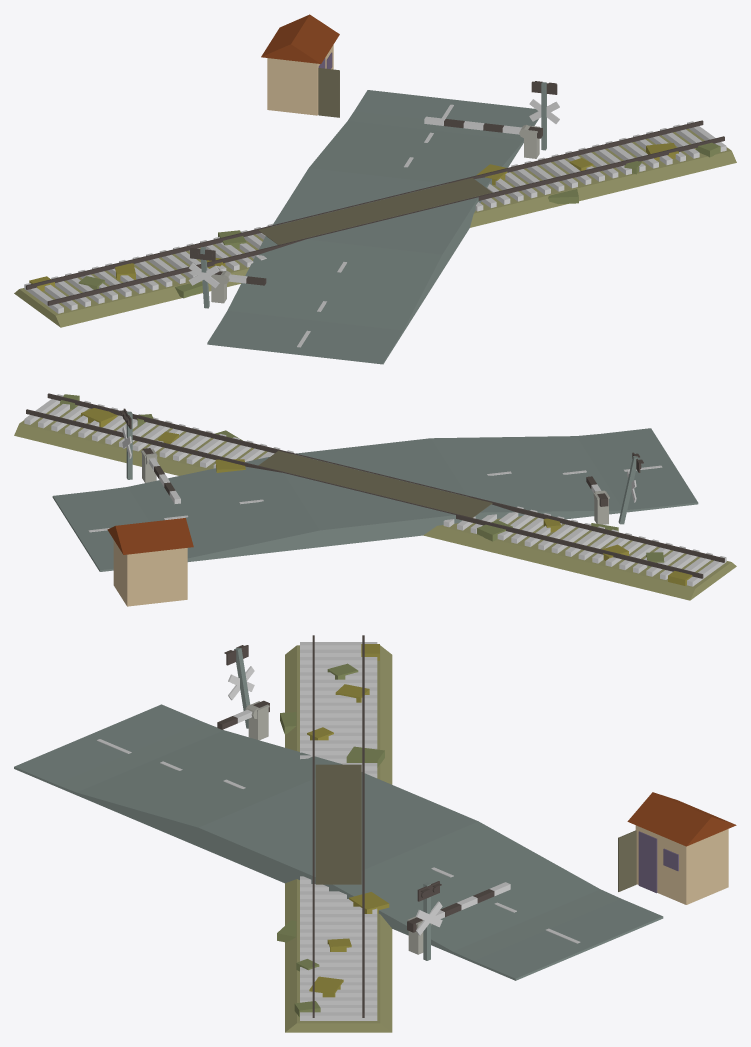
The model's file is SM_PasoNivel_45E_v2_Abandonado_LOD0.fbx.
3 renders of one model, top to bottom at view 1: azimuth 30°, elevation 25°; view 2: azimuth 150°, elevation 25°; view 3: azimuth 270°, elevation 25°, orthographic. The views are drawn at different scales.
Parts seen in each view (by area): view 1: SM_paso_nivel_kit_v32_LOD0, Barrera_1; view 2: SM_paso_nivel_kit_v32_LOD0, Barrera_1; view 3: SM_paso_nivel_kit_v32_LOD0, Barrera_1.
Boxes of the visible parts, box(x1,y1,x2,y2) form: SM_paso_nivel_kit_v32_LOD0: box(14, 14, 736, 364); Barrera_1: box(424, 116, 542, 138); SM_paso_nivel_kit_v32_LOD0: box(14, 393, 736, 606); Barrera_1: box(142, 448, 180, 503); SM_paso_nivel_kit_v32_LOD0: box(14, 635, 736, 1032); Barrera_1: box(407, 882, 510, 932).
Size of the model in its own units: 30 by 3.04 by 24.25.
